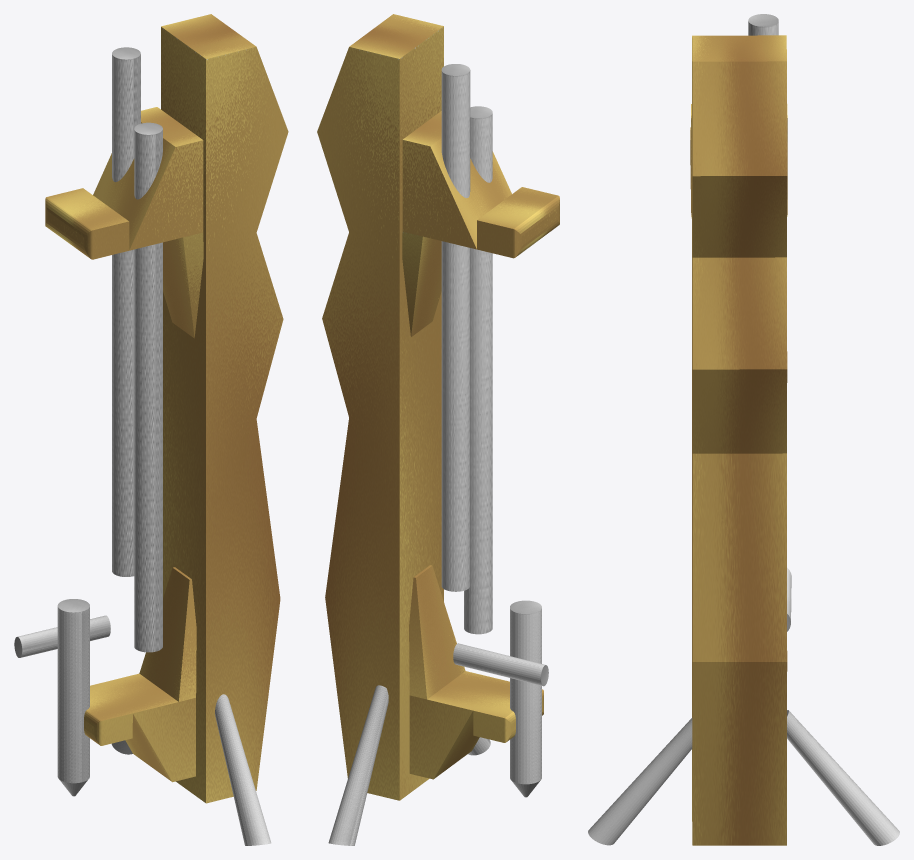
The model's file is PRIME1.fbx.
3 renders of one model, left to right at view 1: azimuth 30°, elevation 25°; view 2: azimuth 150°, elevation 25°; view 3: azimuth 270°, elevation 25°, orthographic. The views are drawn at different scales.
Parts seen in each view (by area): view 1: Cube.006, Cylinder.004; view 2: Cube.006, Cylinder.004; view 3: Cube.006, Cylinder.004.
Boxes of the visible parts, <box> form: Cube.006: <box>45,14,288,803</box>; Cylinder.004: <box>14,47,271,845</box>; Cube.006: <box>317,14,559,800</box>; Cylinder.004: <box>328,64,548,845</box>; Cube.006: <box>690,35,787,845</box>; Cylinder.004: <box>588,14,899,845</box>.
Size of the model in its own units: 5.3 by 16.94 by 5.98.
Materials: 2 (2 with a texture image).
